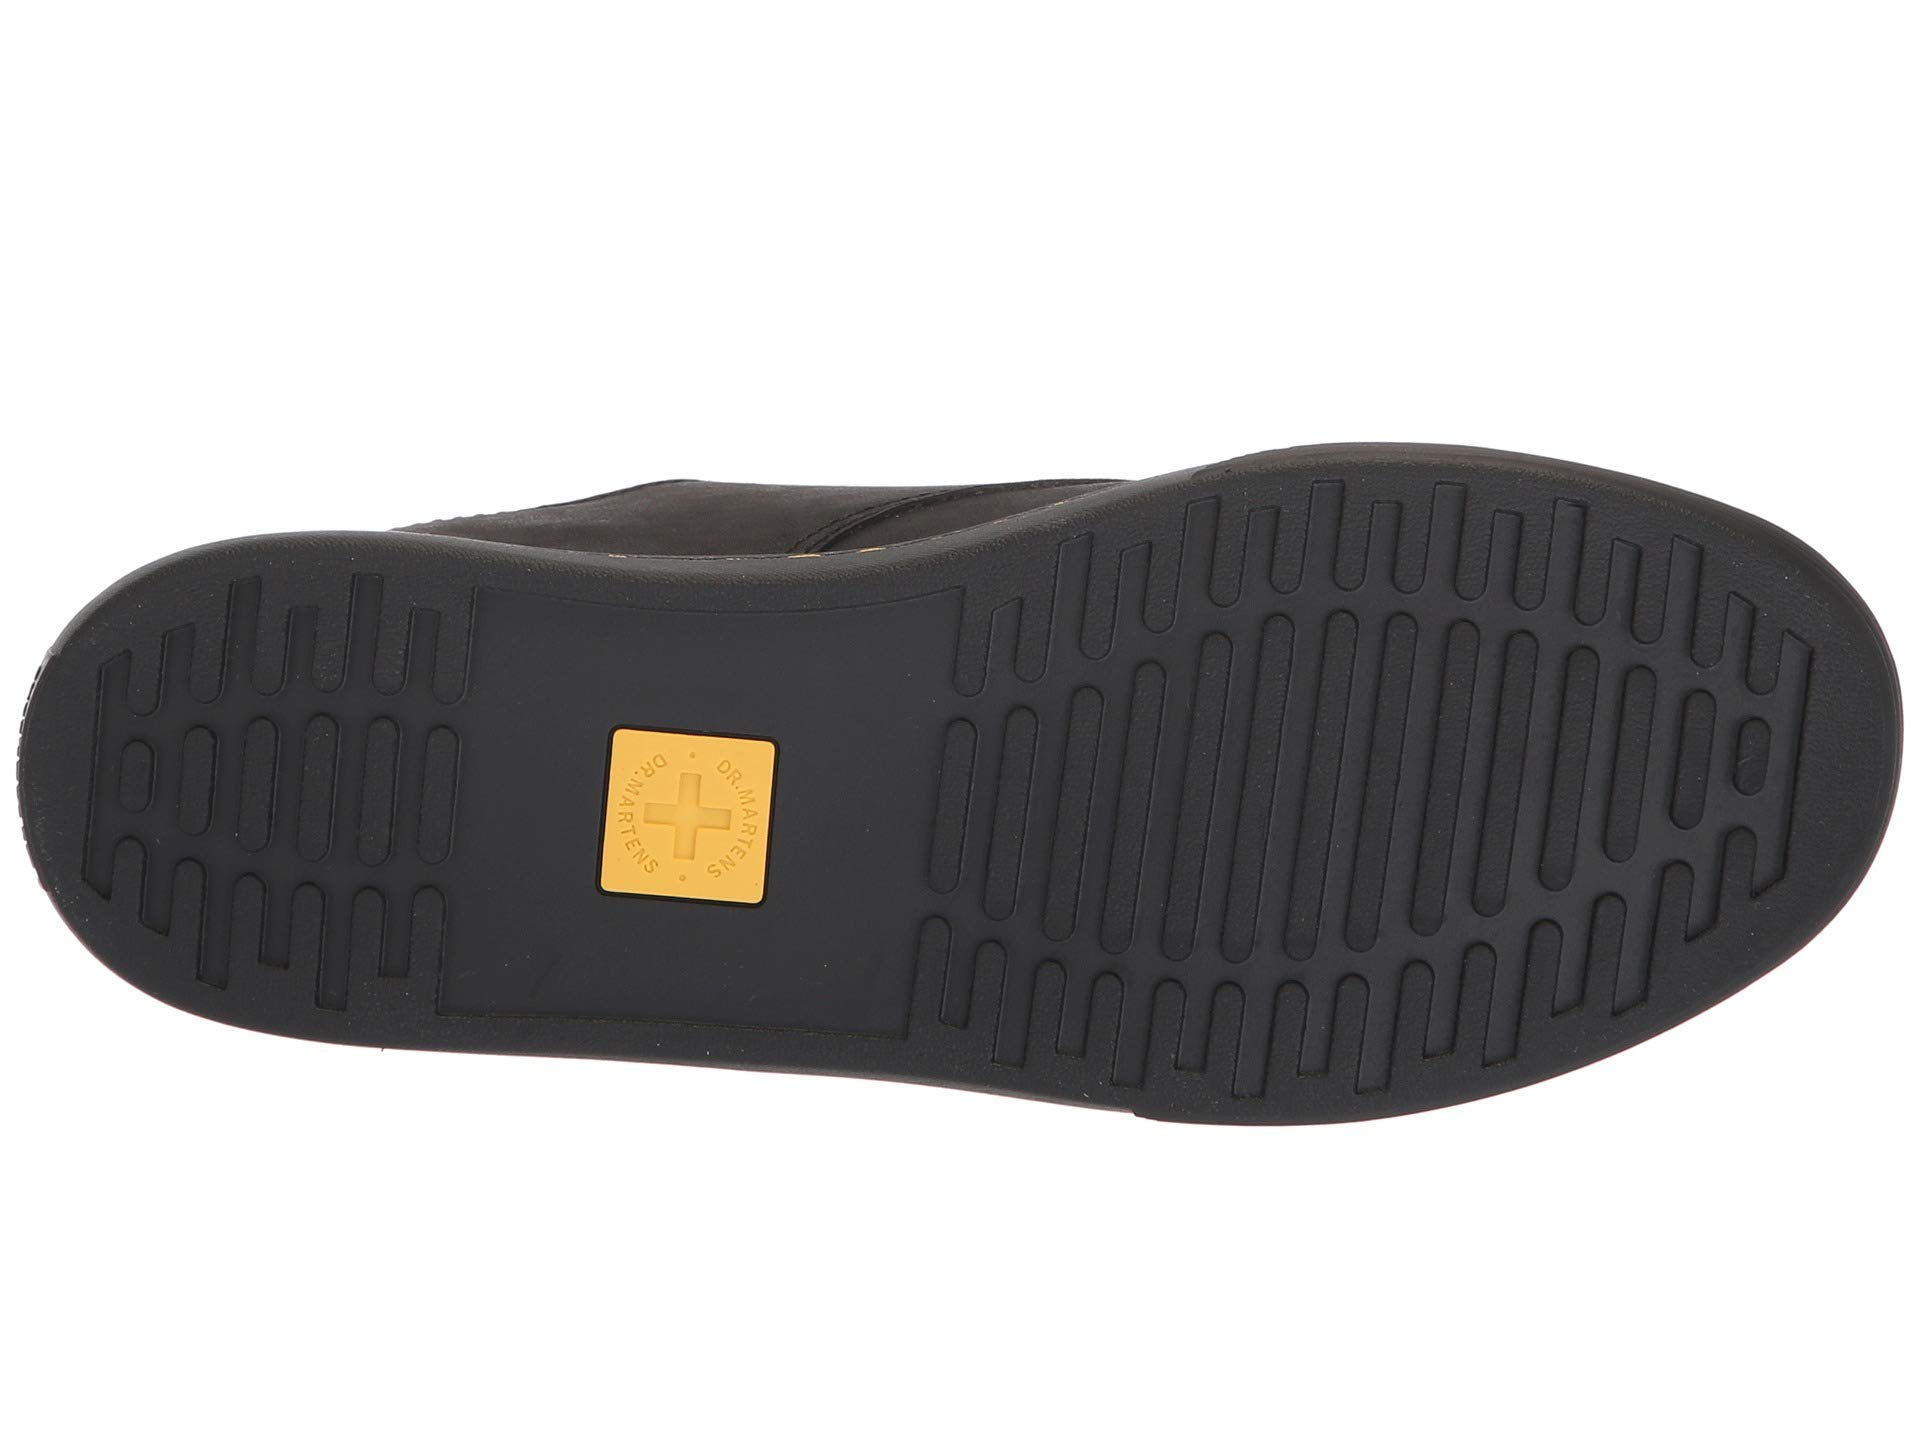circle: (568, 706, 789, 924)
line: (990, 557, 1808, 967)
other: (568, 706, 789, 924)
quad: (568, 706, 789, 924)
text: (568, 706, 789, 924)
